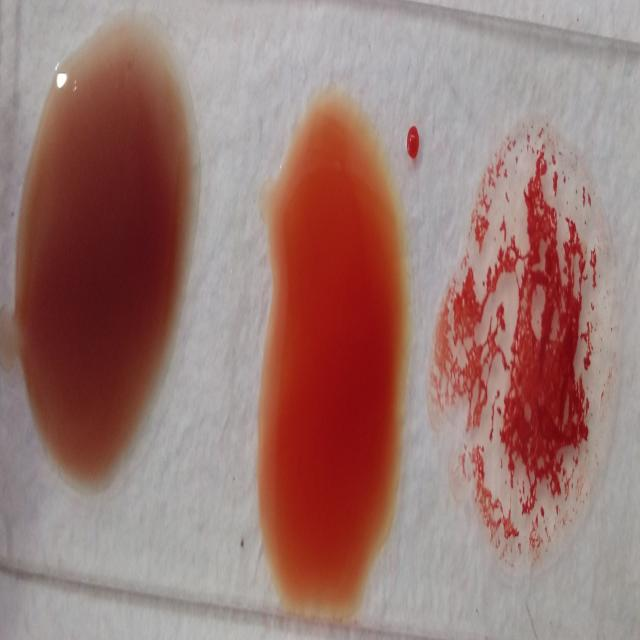D: (445, 126, 611, 572)
